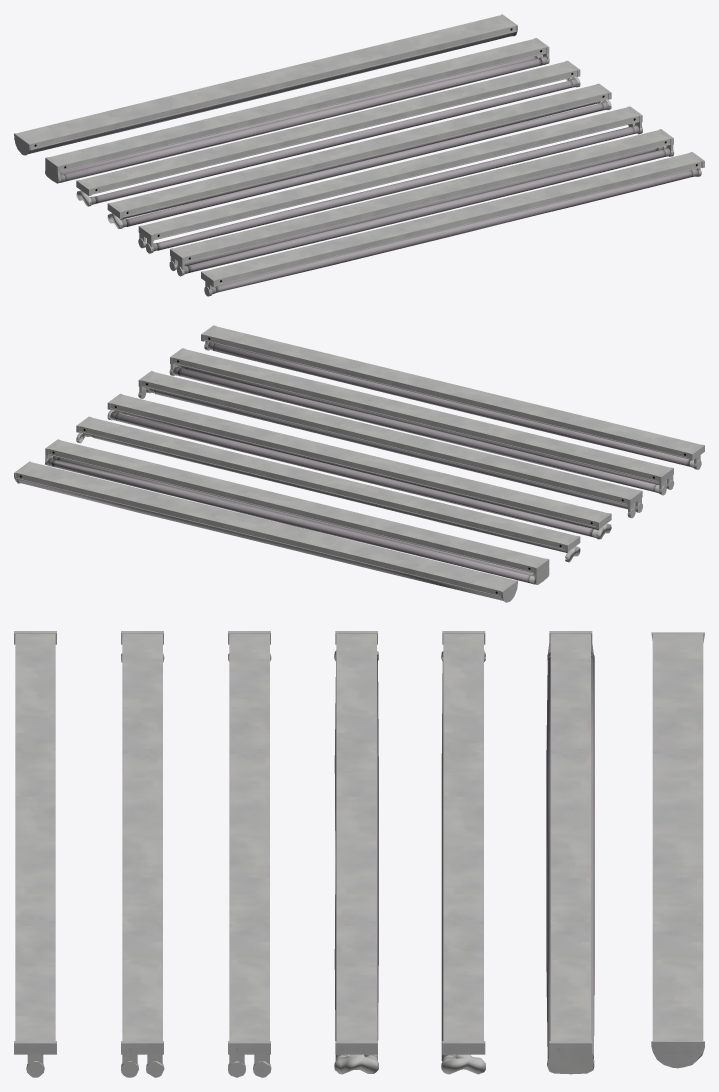
File: fluorescent.glb
3 views of the same model, one above another, from view 1: azimuth 30°, elevation 25°; view 2: azimuth 150°, elevation 25°; view 3: azimuth 270°, elevation 25° (orthographic). The views are drawn at different scales.
Visible parts, largest first — view 1: mounted_fluorescent_lights_a; view 2: mounted_fluorescent_lights_a; view 3: mounted_fluorescent_lights_a.
Part boxes in pixels (box(x1,y1,x2,y2)): mounted_fluorescent_lights_a: box(14, 14, 704, 296); mounted_fluorescent_lights_a: box(14, 325, 704, 602); mounted_fluorescent_lights_a: box(14, 631, 704, 1077).
Size of the model in its own units: 0.9122 by 0.0353 by 0.6453.
2 materials, 2 textured.
